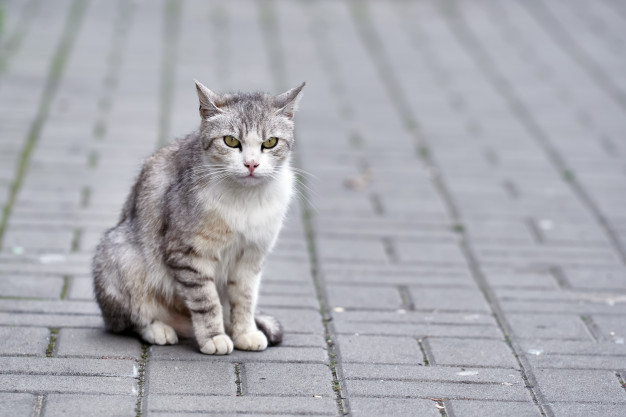cat: (87, 71, 331, 351)
